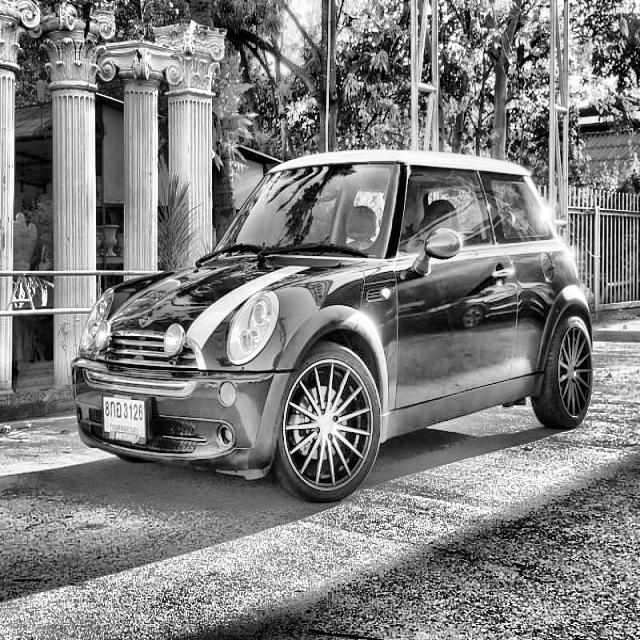license-plate: (95, 390, 153, 454)
